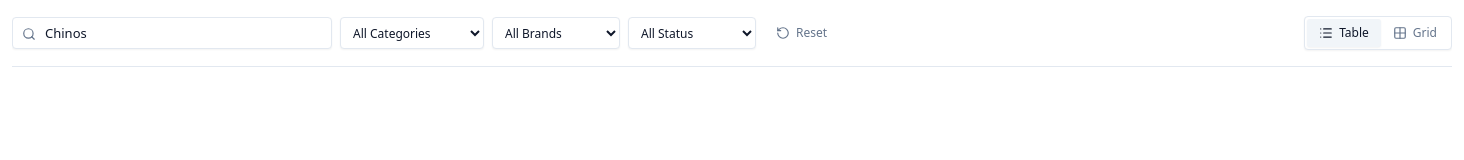
it: InventoryToolbar Search Synchronization › Reset clears input
The width and height of the screenshot is (1464, 160).
Click the button "Reset". click: (802, 33)
box: [764,17,839,49]
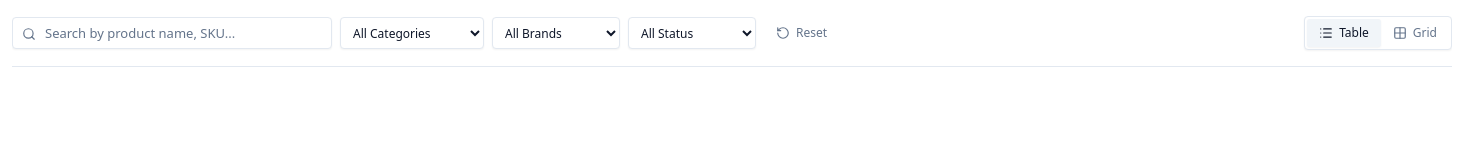
Check: the field named "Search inventory" is empty, box [12,17,332,49]
